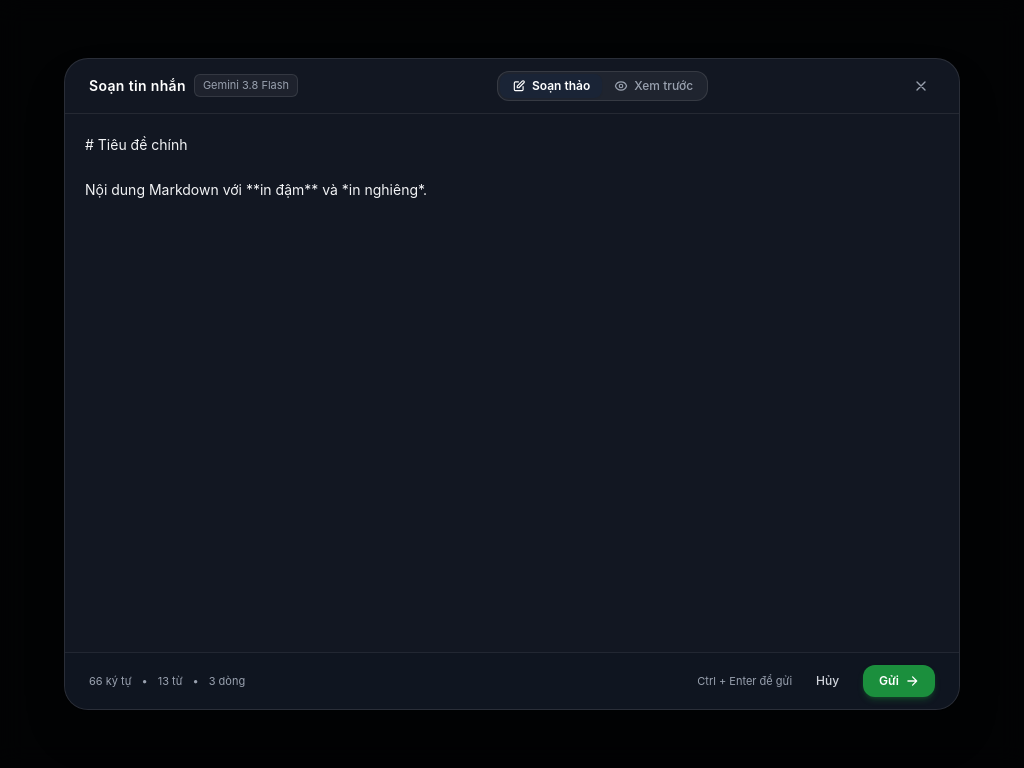
Test: ExpandedEditorModal Component › 2. should switch to "Xem trước" (preview) mode and render markdown elements
Click the tab "Xem trước". click: click(654, 86)
box: [602, 74, 705, 98]
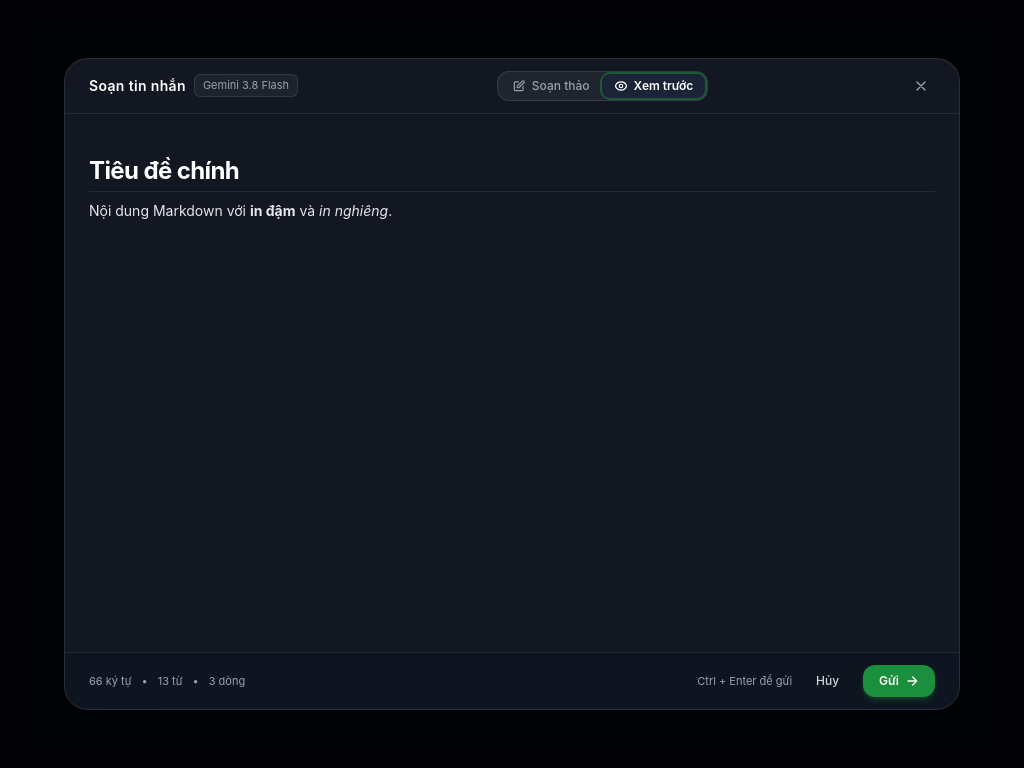
Result: the panel with test id "markdown-preview-panel" is shown at [89, 154, 935, 219]
Result: the heading "Tiêu đề chính" is shown at [89, 154, 935, 192]
Result: the text "in đậm" is shown at [250, 202, 296, 219]
